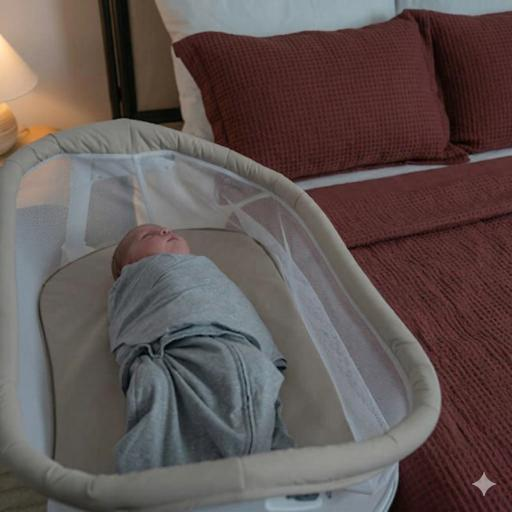baby: (109, 225, 295, 472)
crib: (0, 120, 440, 511)
